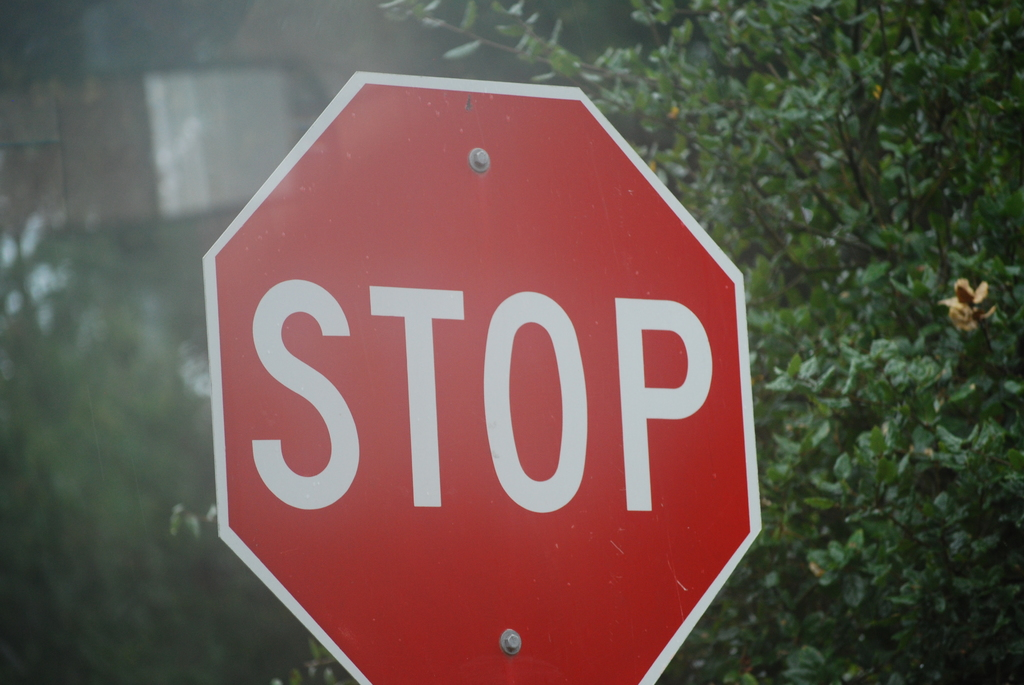stop_sign: (208, 72, 761, 685)
